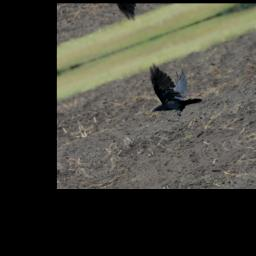Crow: (131, 51, 207, 126)
